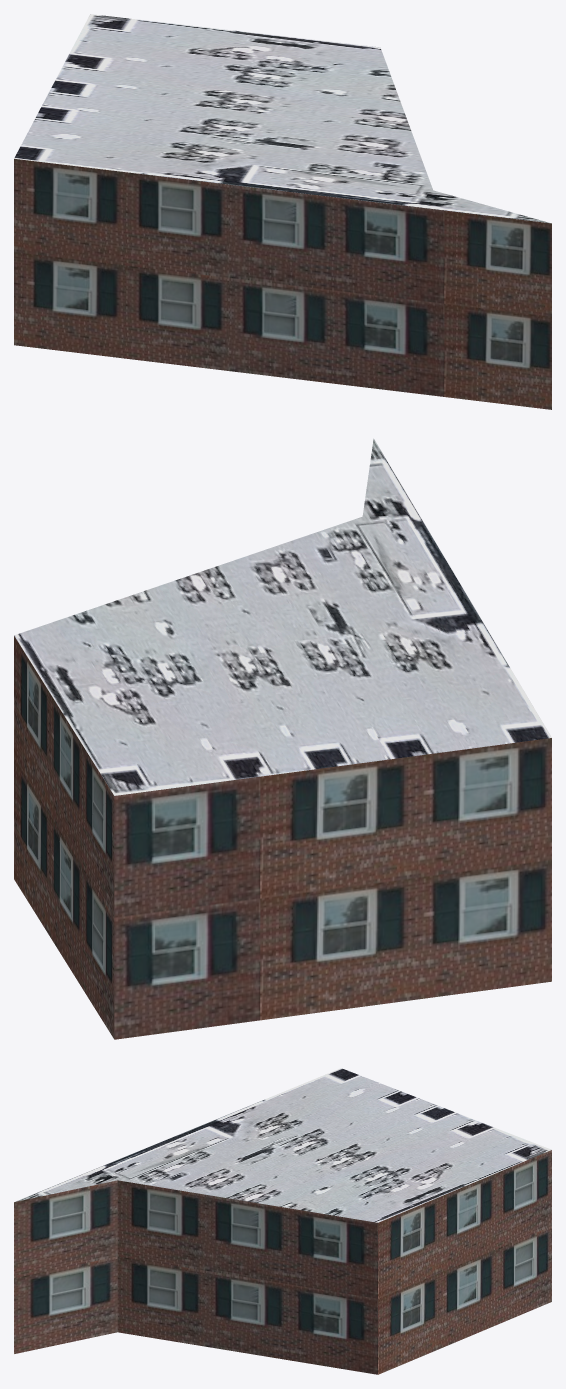
File: ResTex__5317.fbx
The picture shows the model from 3 angles, top to bottom: view 1: azimuth 30°, elevation 25°; view 2: azimuth 150°, elevation 25°; view 3: azimuth 270°, elevation 25°; orthographic projection. The views are drawn at different scales.
Visible parts, largest first — view 1: CityEngineMaterial_14_m, CityEngineMaterial_8_m; view 2: CityEngineMaterial_14_m, CityEngineMaterial_8_m; view 3: CityEngineMaterial_14_m, CityEngineMaterial_8_m.
Part boxes in pixels (x1,y1,x2,y2): CityEngineMaterial_14_m: (14,159,551,409); CityEngineMaterial_8_m: (14,14,550,223); CityEngineMaterial_14_m: (14,636,551,1039); CityEngineMaterial_8_m: (14,438,551,795); CityEngineMaterial_14_m: (14,1150,551,1374); CityEngineMaterial_8_m: (15,1068,551,1222).
Bounding box in the file's own units: 13.1 × 6 × 19.25.
2 materials, 2 textured.
